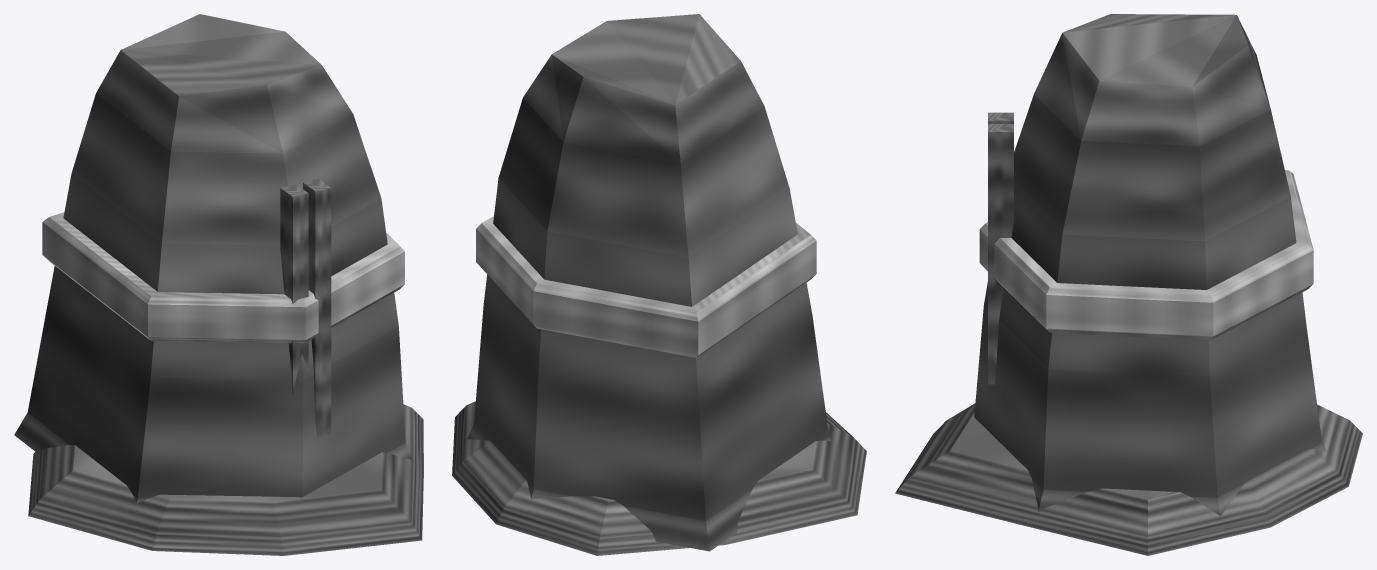
The model's file is underworld-descent-monolith.glb.
The picture shows the model from 3 angles, left to right: view 1: azimuth 30°, elevation 25°; view 2: azimuth 150°, elevation 25°; view 3: azimuth 270°, elevation 25°; orthographic projection. The views are drawn at different scales.
Parts seen in each view (by area): view 1: underworld-descent-monolith; view 2: underworld-descent-monolith; view 3: underworld-descent-monolith.
Boxes of the visible parts, x1,y1,x2,y2 form: underworld-descent-monolith: [14, 14, 423, 555]; underworld-descent-monolith: [452, 14, 866, 555]; underworld-descent-monolith: [895, 14, 1362, 555].
Bounding box in the file's own units: 1 × 1 × 1.
1 material, 1 textured.
